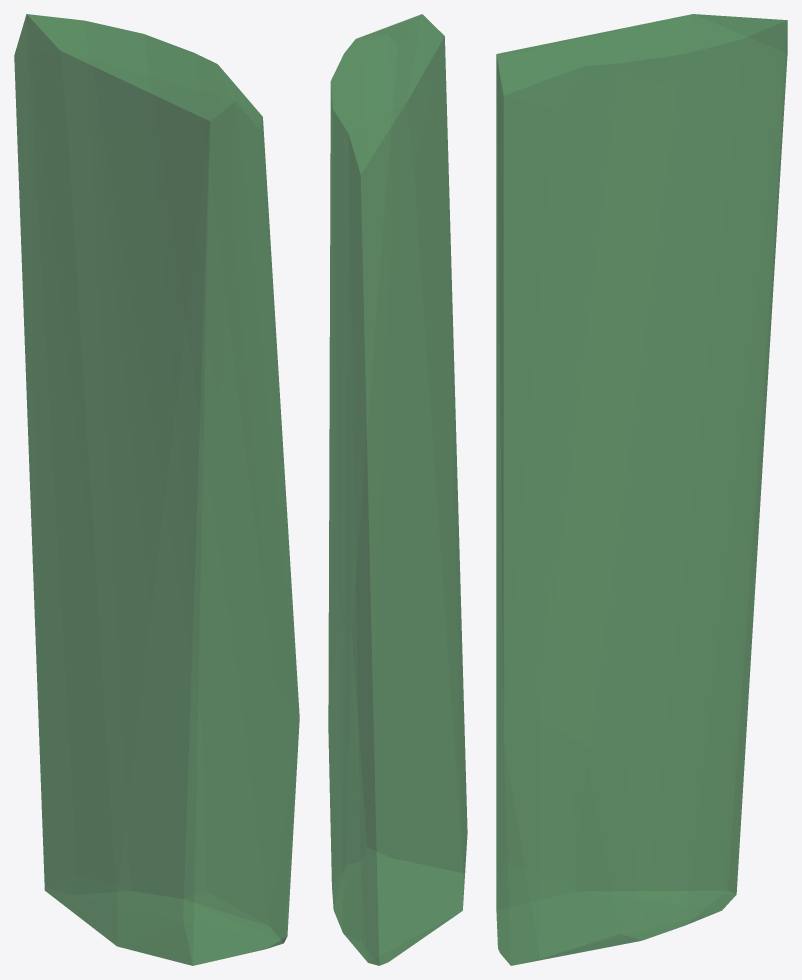
The picture shows the model from 3 angles, left to right: view 1: azimuth 30°, elevation 25°; view 2: azimuth 150°, elevation 25°; view 3: azimuth 270°, elevation 25°; orthographic projection. The views are drawn at different scales.
Parts seen in each view (by area): view 1: Shape_IndexedFaceSet.003_Shape_IndexedFaceSet.1968; view 2: Shape_IndexedFaceSet.003_Shape_IndexedFaceSet.1968; view 3: Shape_IndexedFaceSet.003_Shape_IndexedFaceSet.1968.
Boxes of the visible parts, x1,y1,x2,y2 form: Shape_IndexedFaceSet.003_Shape_IndexedFaceSet.1968: [14, 14, 299, 965]; Shape_IndexedFaceSet.003_Shape_IndexedFaceSet.1968: [328, 14, 467, 965]; Shape_IndexedFaceSet.003_Shape_IndexedFaceSet.1968: [496, 14, 787, 965].
Size of the model in its own units: 0.1276 by 0.7126 by 0.2127.
